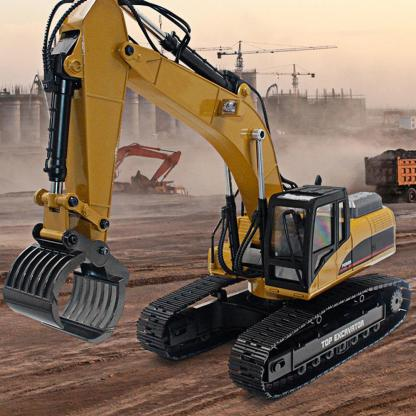excavator: (8, 0, 414, 404)
